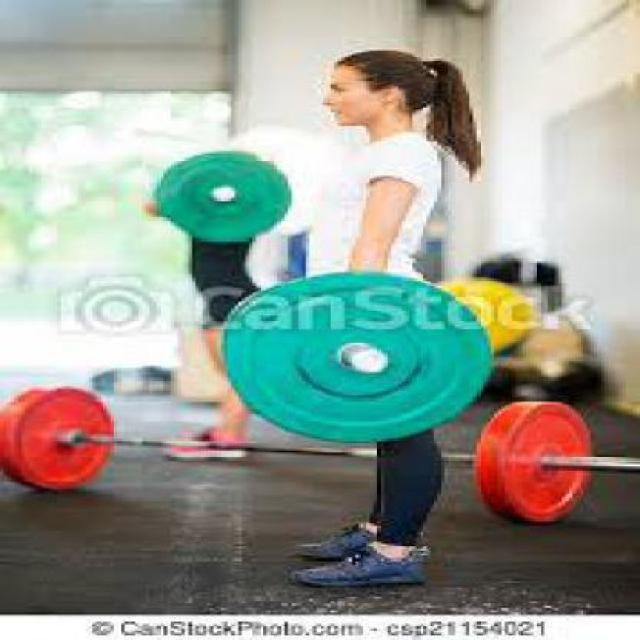barbell: (210, 266, 501, 450), (148, 137, 299, 248)
